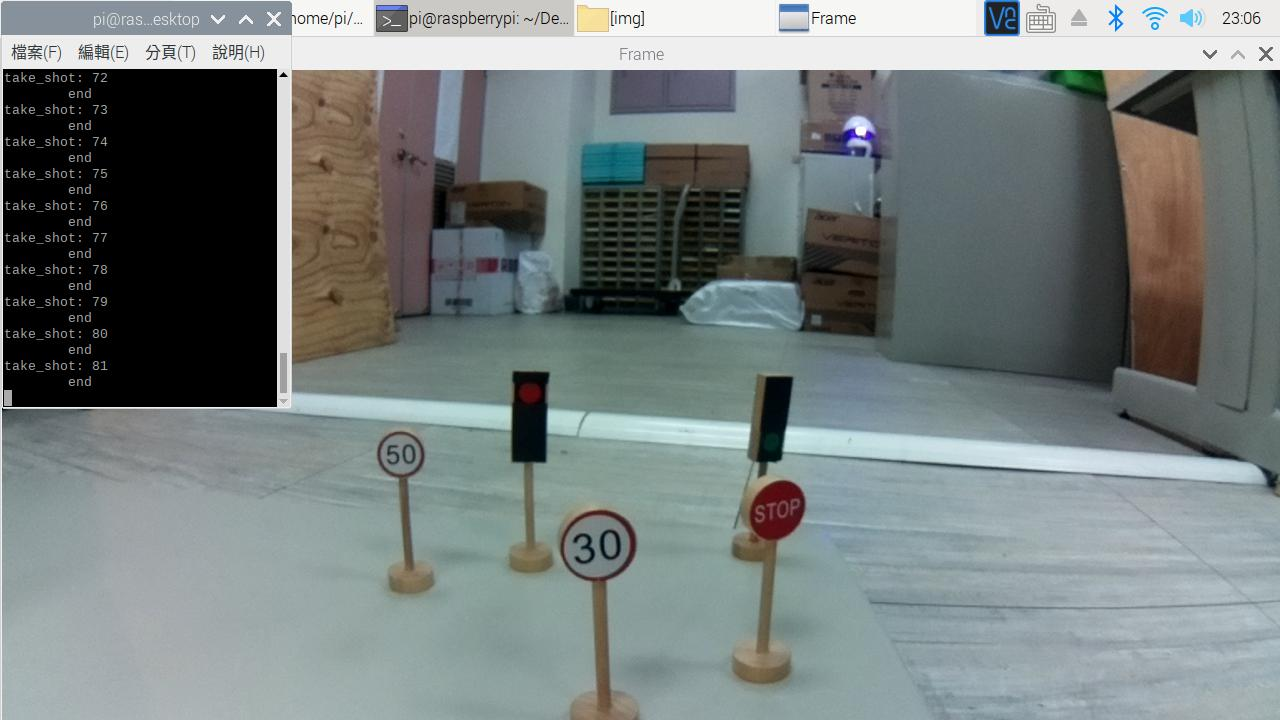Green: (747, 361, 799, 465)
Red: (507, 356, 553, 475)
Speed30: (559, 504, 643, 581)
Speed50: (374, 431, 432, 487)
Stop: (738, 468, 816, 543)
